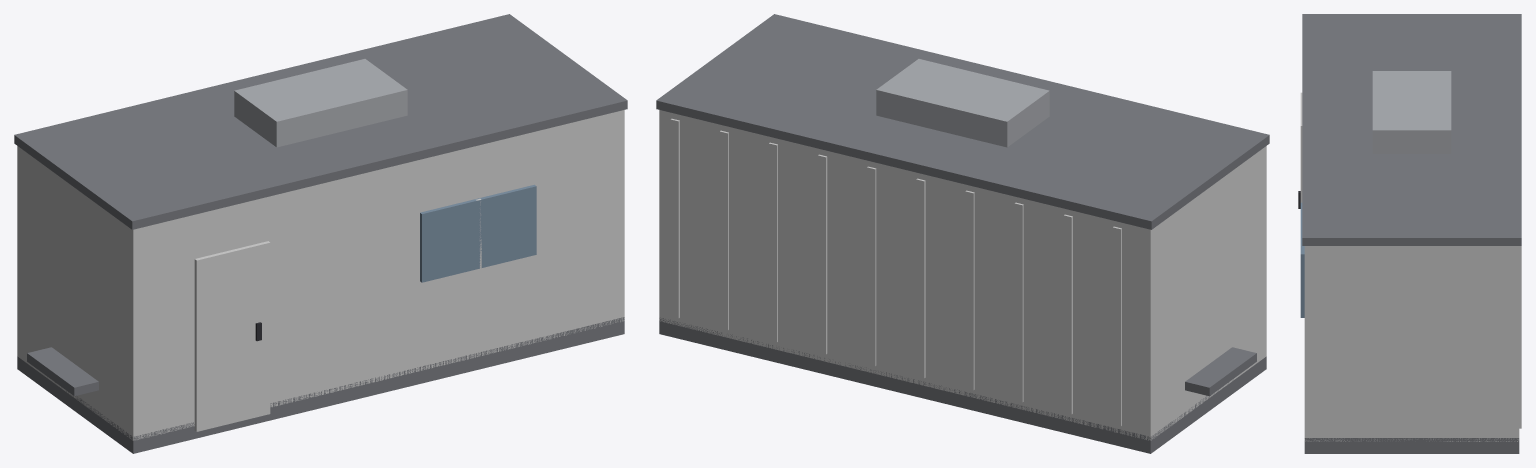
File: Santiye_Konteyneri_Beyaz.glb
3 views of the same model, side by side, from view 1: azimuth 30°, elevation 25°; view 2: azimuth 150°, elevation 25°; view 3: azimuth 270°, elevation 25° (orthographic). The views are drawn at different scales.
Parts seen in each view (by area): view 1: Santiye_Konteyneri_Beyaz; view 2: Santiye_Konteyneri_Beyaz; view 3: Santiye_Konteyneri_Beyaz.
Boxes of the visible parts, x1,y1,x2,y2 form: Santiye_Konteyneri_Beyaz: (14, 14, 627, 453); Santiye_Konteyneri_Beyaz: (656, 14, 1269, 453); Santiye_Konteyneri_Beyaz: (1298, 14, 1521, 453).
Size of the model in its own units: 6.33 by 3.05 by 2.54.
